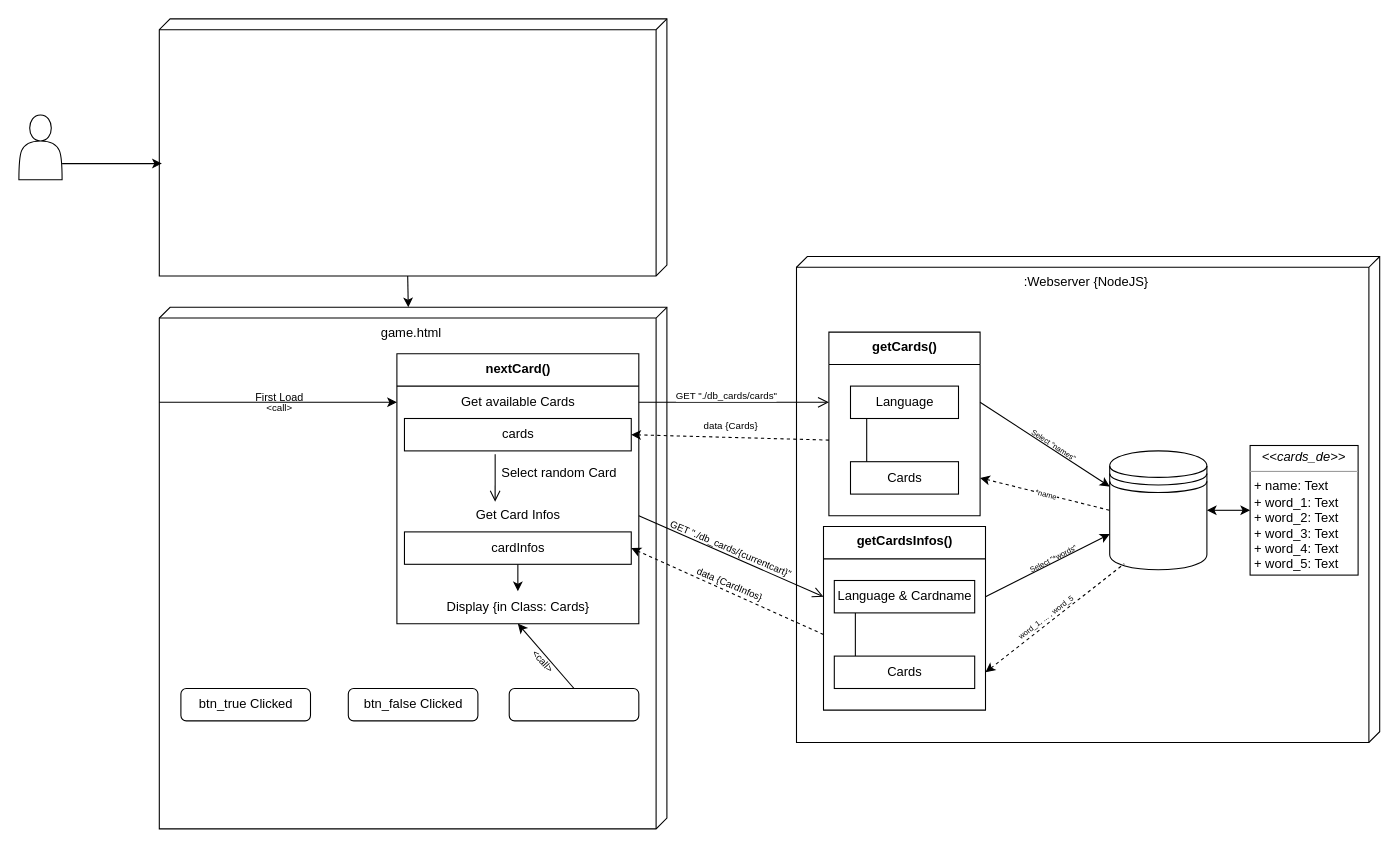
This 1399x848 diagram has some shape labels left out. Each missing label, with the centre of its shape:
btn_skip Clicked: pixel 573 704
index.html: pixel 412 147
spielekarten.db: pixel 1158 510
